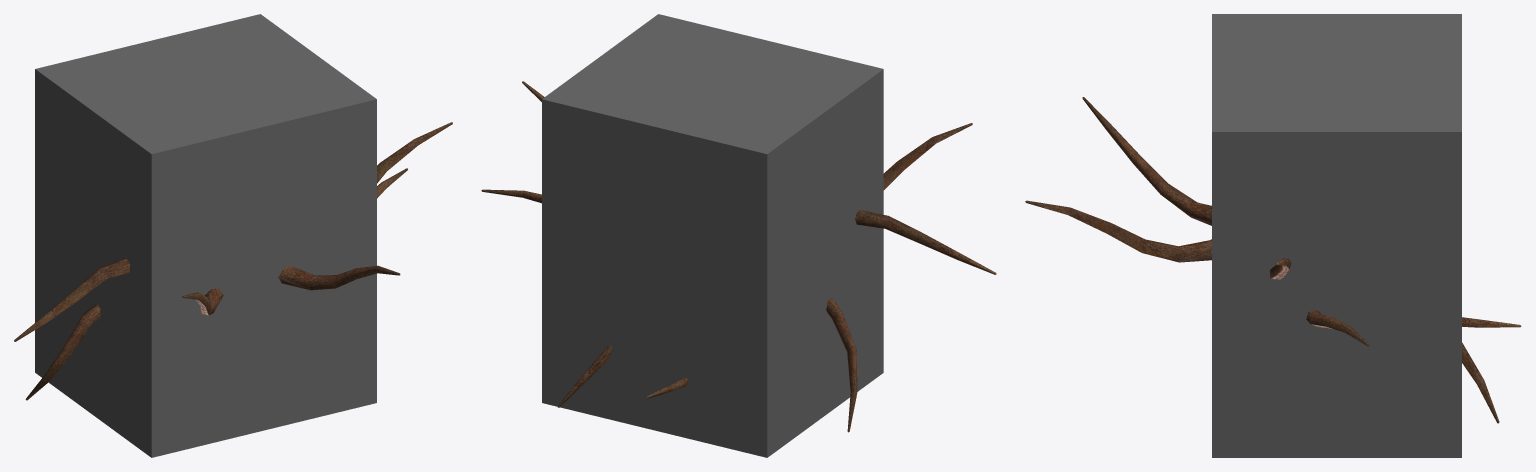
Rendered from Octopus_corpse.dae.
3 views of the same model, side by side, from view 1: azimuth 30°, elevation 25°; view 2: azimuth 150°, elevation 25°; view 3: azimuth 270°, elevation 25° (orthographic). The views are drawn at different scales.
Visible parts, largest first — view 1: boundingBox, OctopusCorpse; view 2: boundingBox, OctopusCorpse; view 3: boundingBox, OctopusCorpse.
Boxes of the visible parts, x1=… form: boundingBox: x1=35, y1=14, x2=376, y2=457; OctopusCorpse: x1=14, y1=122, x2=452, y2=400; boundingBox: x1=542, y1=14, x2=883, y2=457; OctopusCorpse: x1=481, y1=81, x2=996, y2=432; boundingBox: x1=1212, y1=14, x2=1461, y2=457; OctopusCorpse: x1=1025, y1=97, x2=1521, y2=423.
Bounding box in the file's own units: 2.57 × 1.63 × 2.25.
2 materials, 1 textured.
